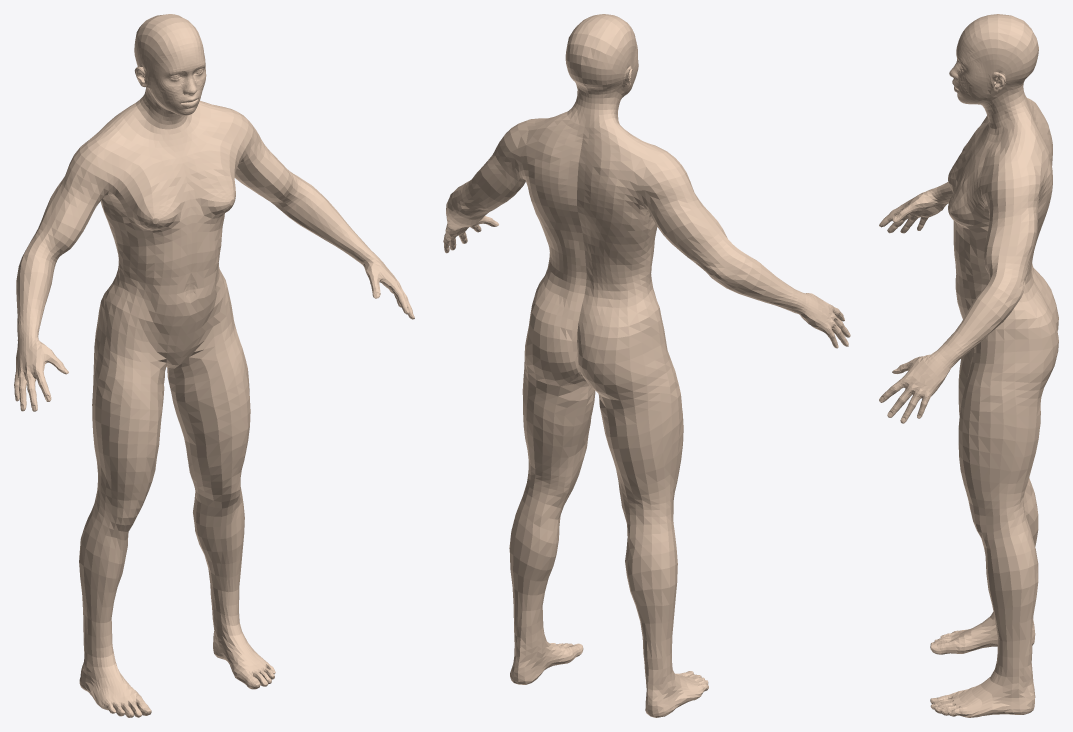
The model's file is female-young-heavy-high.glb.
3 renders of one model, left to right at view 1: azimuth 30°, elevation 25°; view 2: azimuth 150°, elevation 25°; view 3: azimuth 270°, elevation 25°, orthographic.
Visible parts, largest first — view 1: world; view 2: world; view 3: world.
Boxes of the visible parts, x1=… form: world: x1=14, y1=14, x2=414, y2=717; world: x1=443, y1=14, x2=850, y2=717; world: x1=879, y1=14, x2=1058, y2=717.
Bounding box in the file's own units: 1.09 × 1.76 × 0.432.
